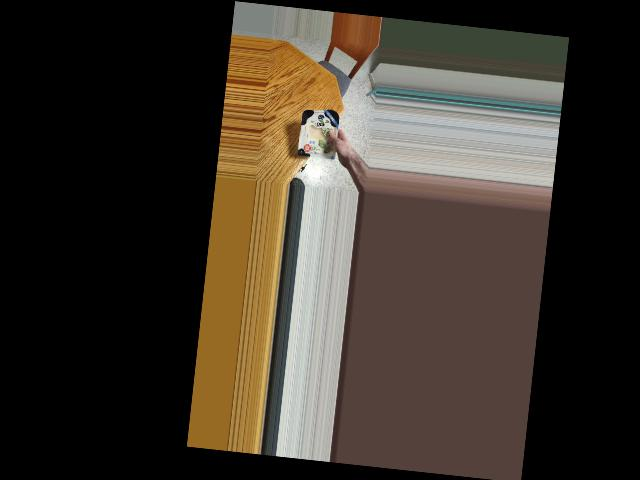cheese: (297, 106, 343, 163)
